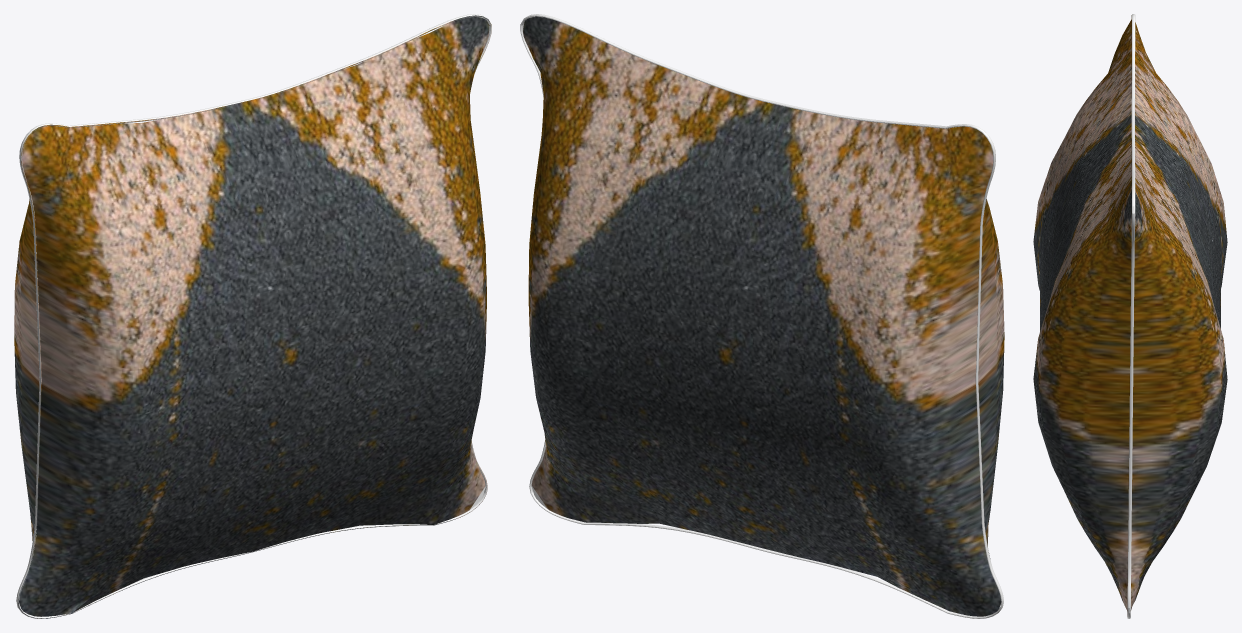
The model's file is Avana_ChevronCushion-Square.glb.
3 views of the same model, side by side, from view 1: azimuth 30°, elevation 25°; view 2: azimuth 150°, elevation 25°; view 3: azimuth 270°, elevation 25° (orthographic). The views are drawn at different scales.
Parts seen in each view (by area): view 1: model 6; view 2: model 6; view 3: model 6.
Boxes of the visible parts, x1,y1,x2,y2 form: model 6: [14, 14, 491, 618]; model 6: [520, 14, 1004, 618]; model 6: [1033, 14, 1227, 618].
Size of the model in its own units: 0.5 by 0.5 by 0.2036.
Materials: 2 (1 with a texture image).
